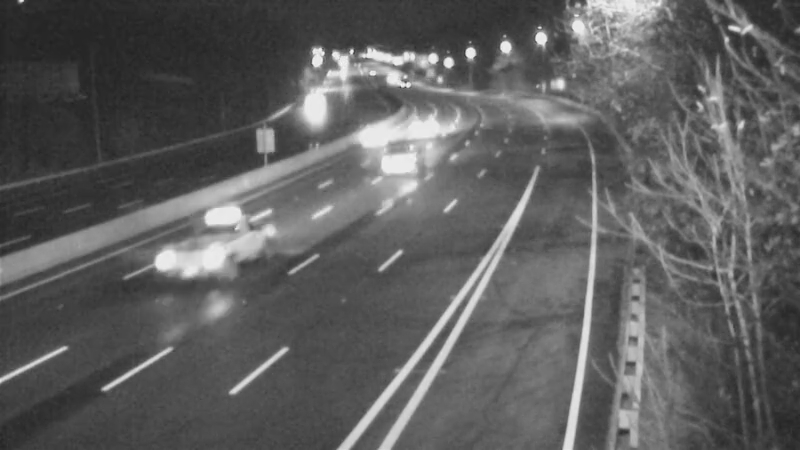vehicle: (365, 118, 445, 198), (173, 211, 253, 291), (375, 57, 425, 107), (401, 101, 451, 151), (350, 112, 400, 162), (286, 81, 336, 131)
